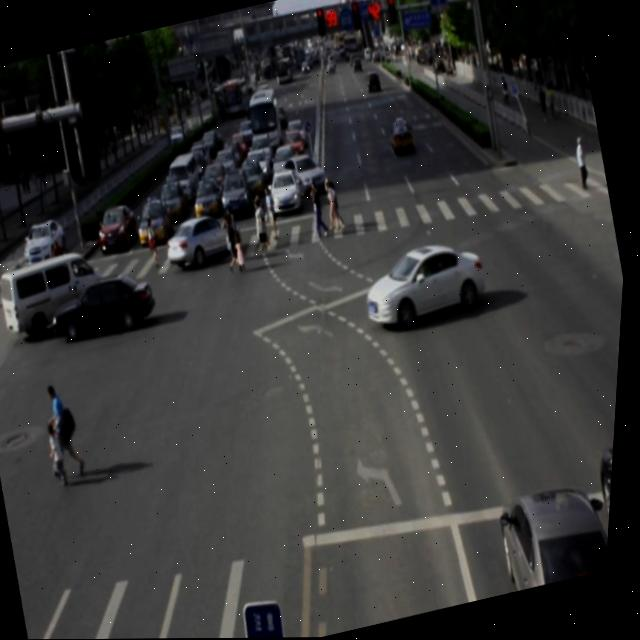car: (488, 471, 618, 595), (358, 229, 495, 336), (50, 264, 167, 345), (163, 206, 248, 272), (583, 426, 620, 570)
